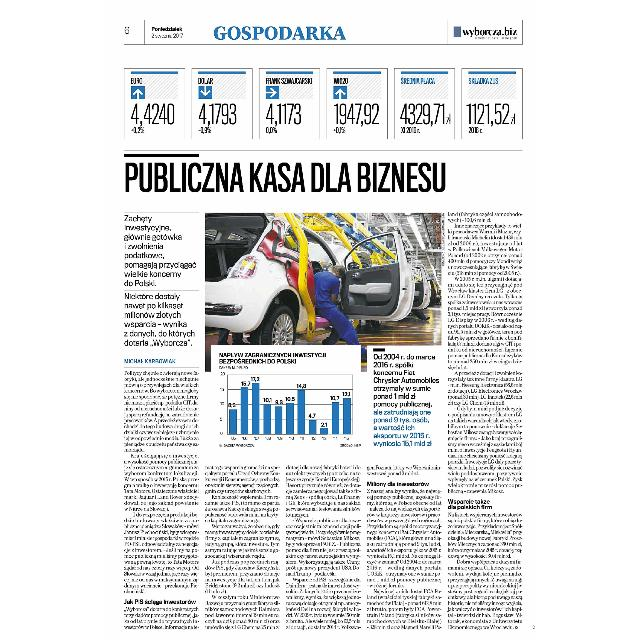article: (121, 149, 526, 633)
